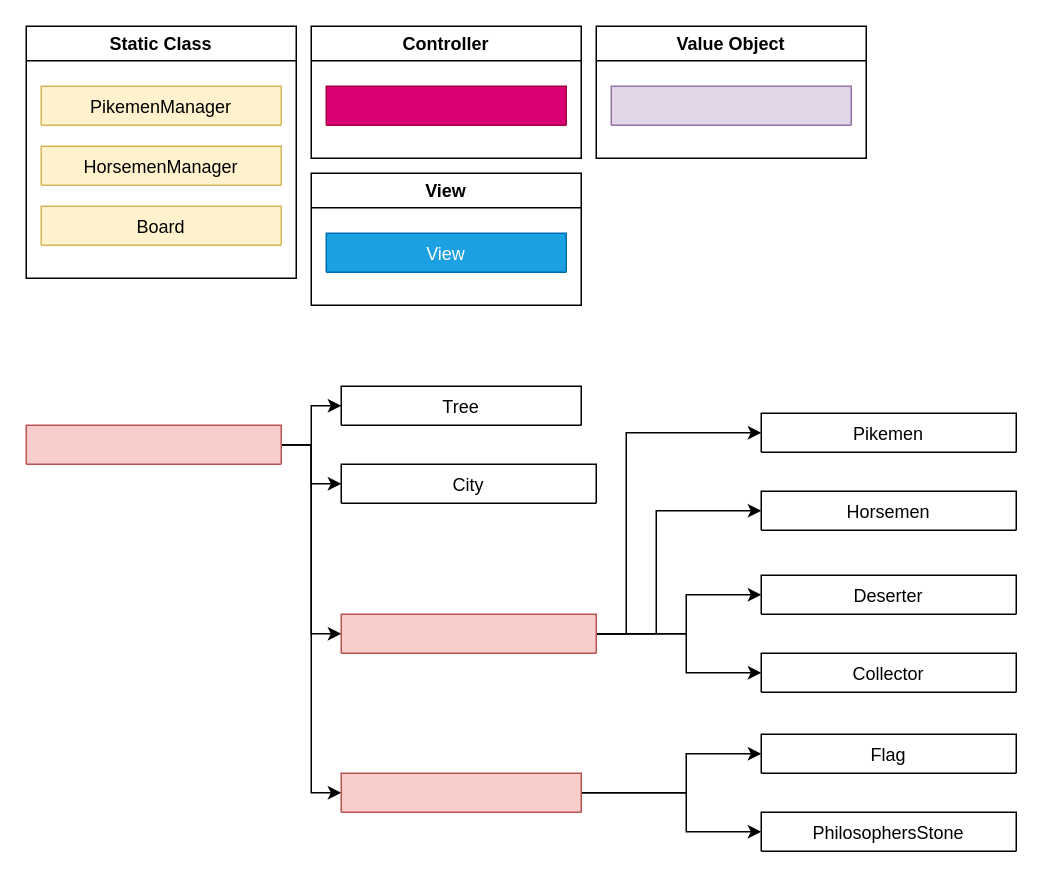
Some shapes in this 1043 by 878 pixel diagram are drawn without their labels. The centre of each missing label's shape, as x and y in pixels:
abstract Collectable: the point at 460,792
abstract Entity: the point at 153,444
abstract MovableEntity: the point at 468,633
HELBArmy: the point at 445,105
Position: the point at 730,105
